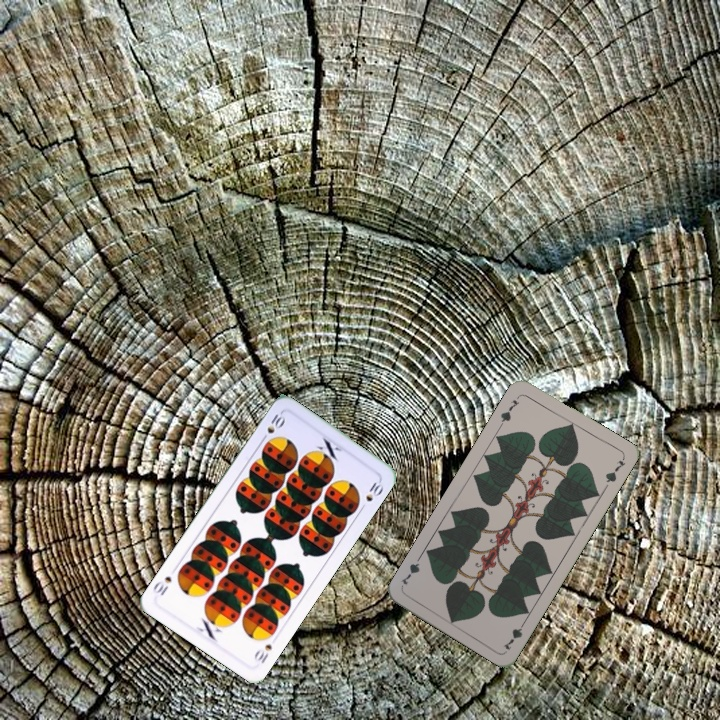G7: (499, 616, 529, 653), (496, 396, 521, 428)
S10: (257, 408, 288, 444), (250, 640, 275, 666)
